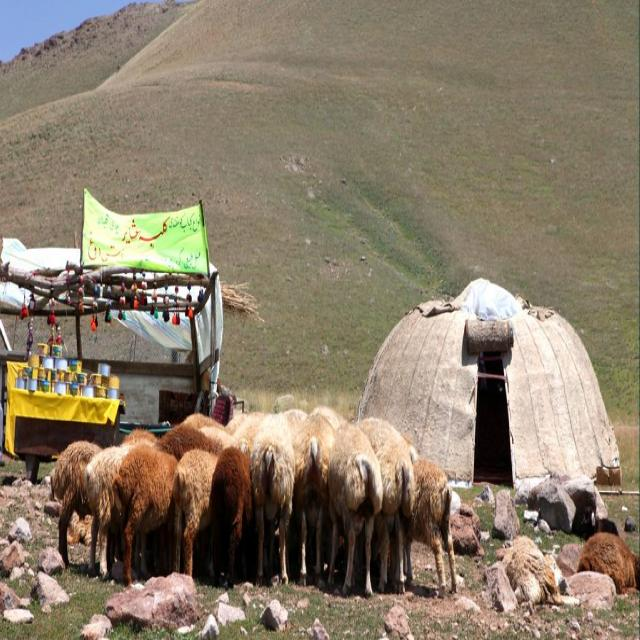Sheep: (50, 405, 640, 613)
